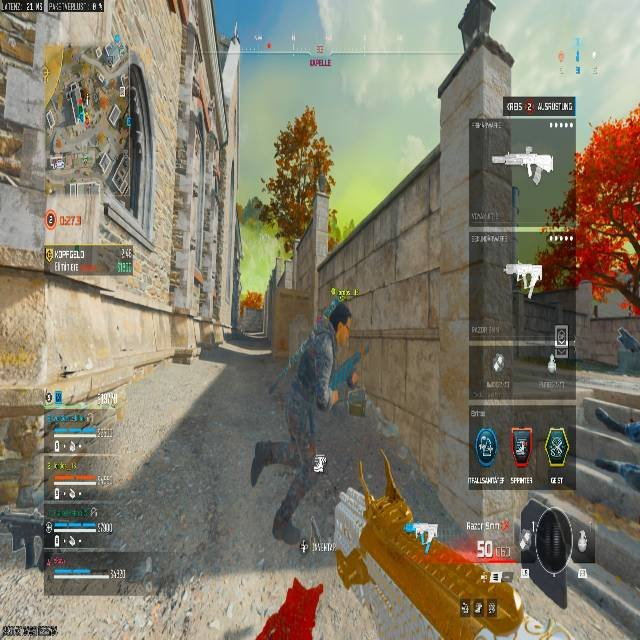head: (329, 303, 351, 339)
